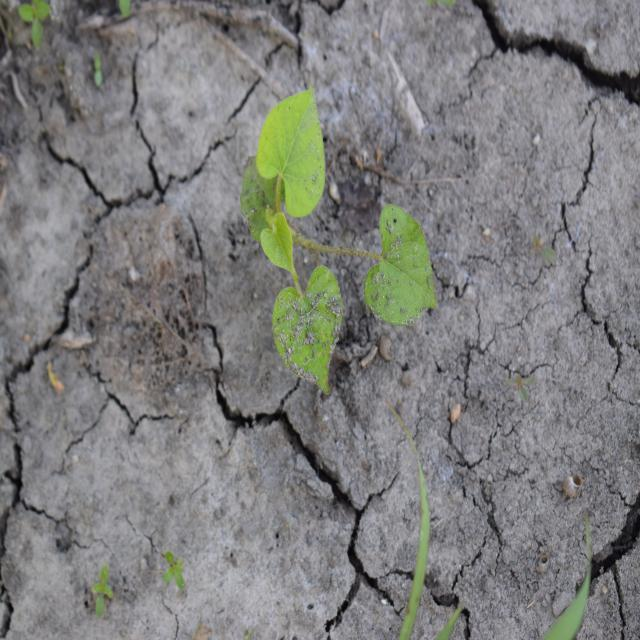MorningGlory: (240, 76, 440, 397)
